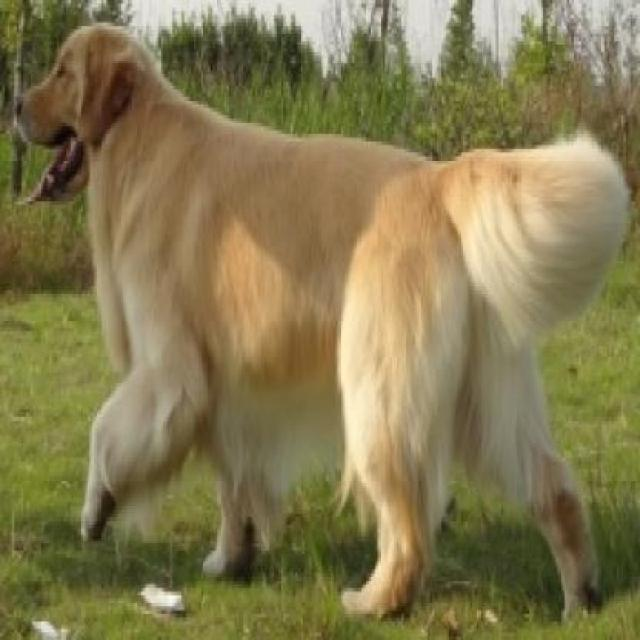Dog: (12, 17, 632, 628)
